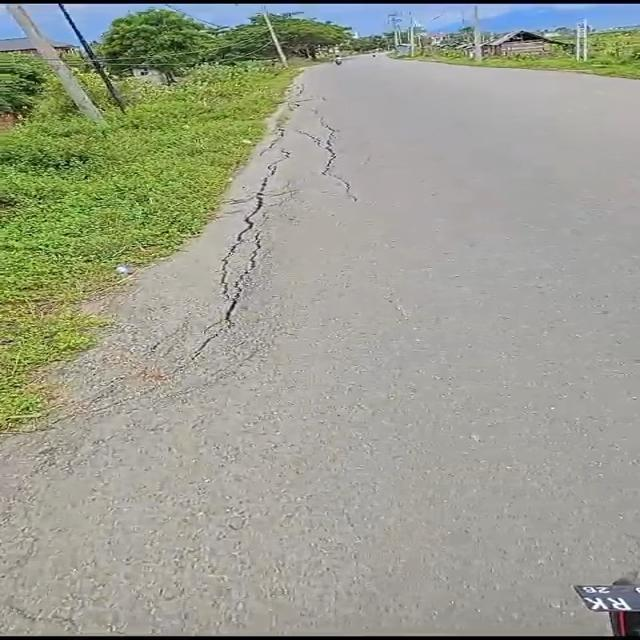Pinggir: (89, 90, 353, 365)
